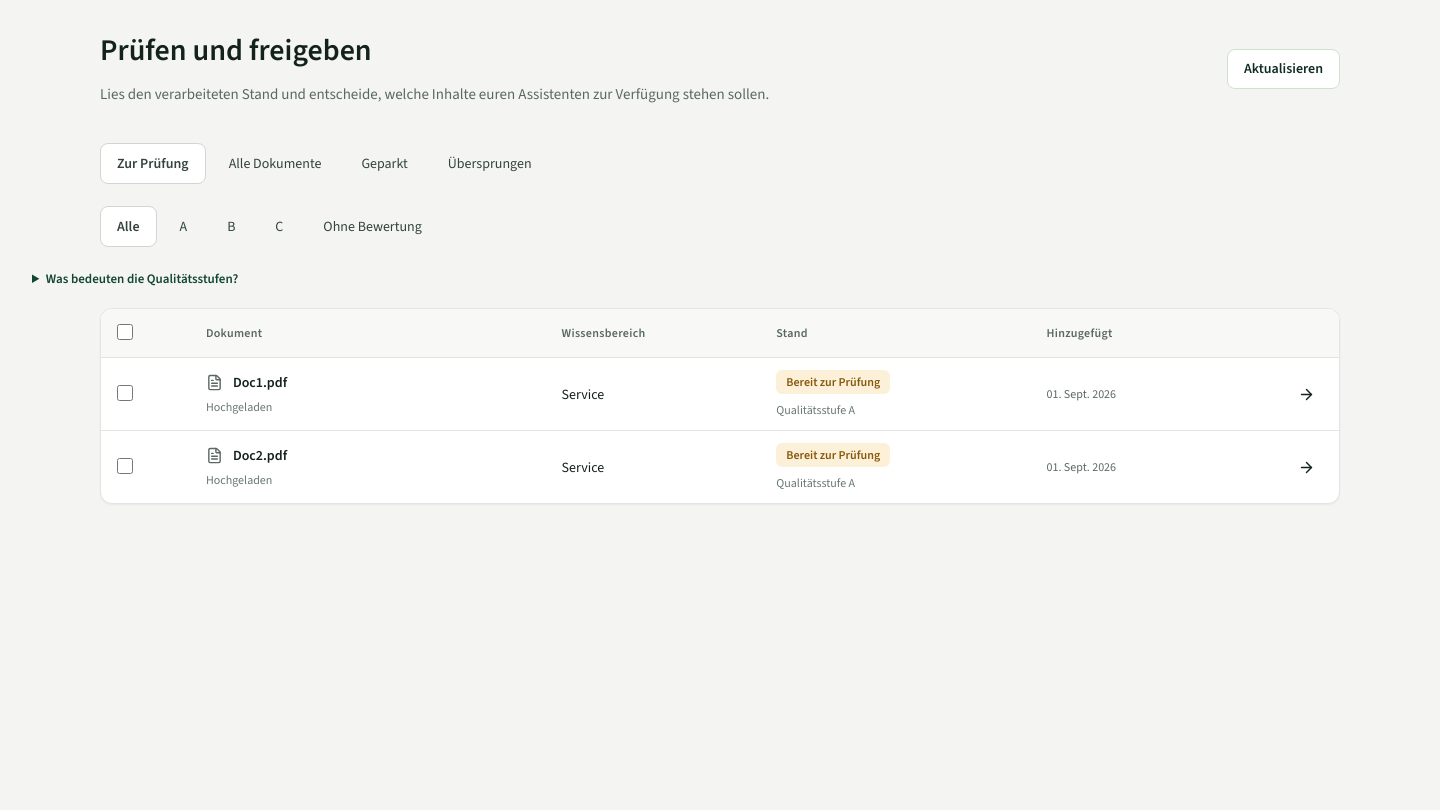
Test: resets the bulk release confirmation after a batch so a new selection needs re-confirming
The image size is (1440, 810).
Expected: the text "Doc1.pdf" is shown, x1=233 y1=372 x2=287 y2=393
What coordinates should you click on to do the following:
click the checkbox named "Doc1.pdf auswählen"
I would click on:
 (125, 393)
Its box is x1=117 y1=385 x2=133 y2=401.
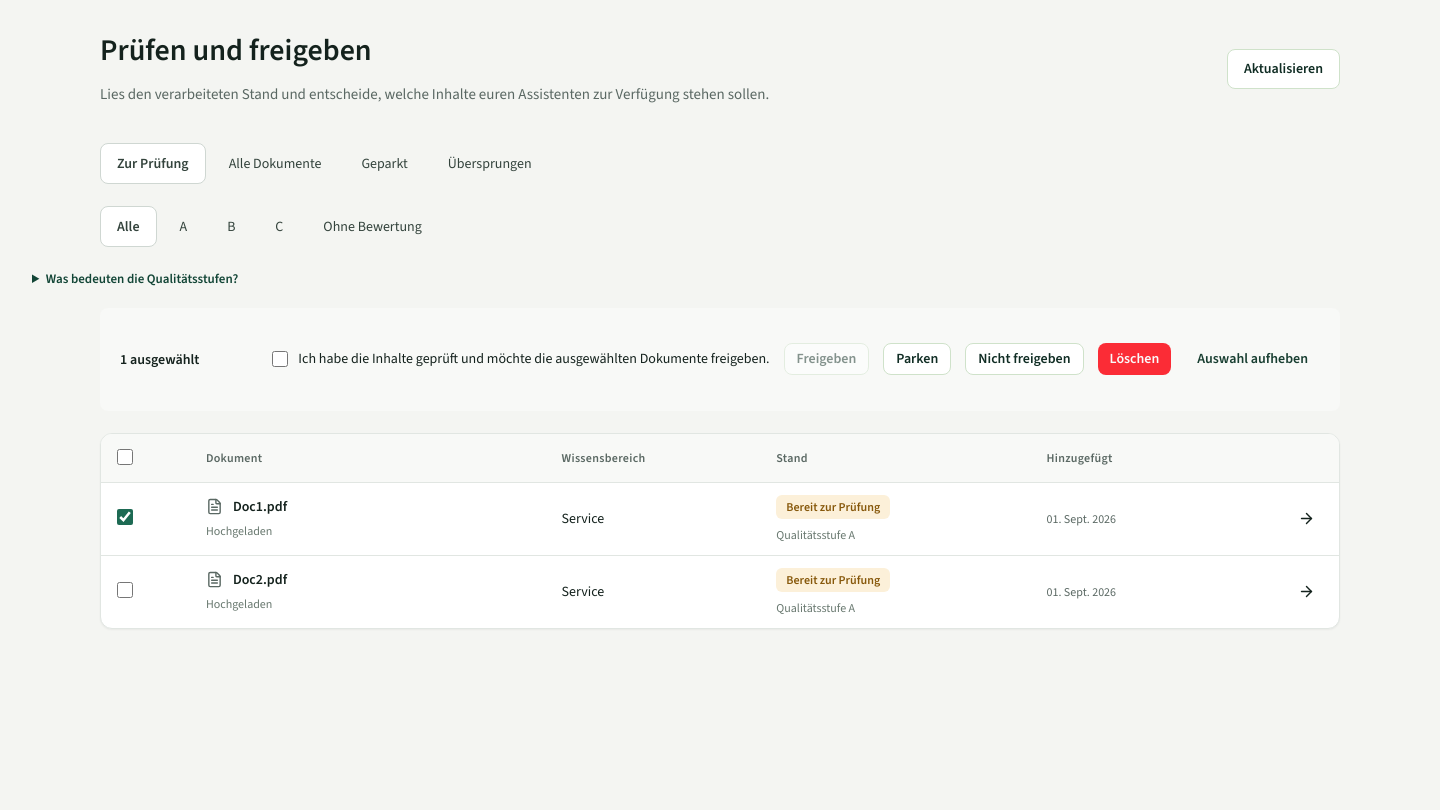
What coordinates should you click on to do the following:
click the checkbox labelled "Ich habe die Inhalte geprüft"
I would click on:
 (280, 359)
Its box is x1=272 y1=351 x2=288 y2=367.
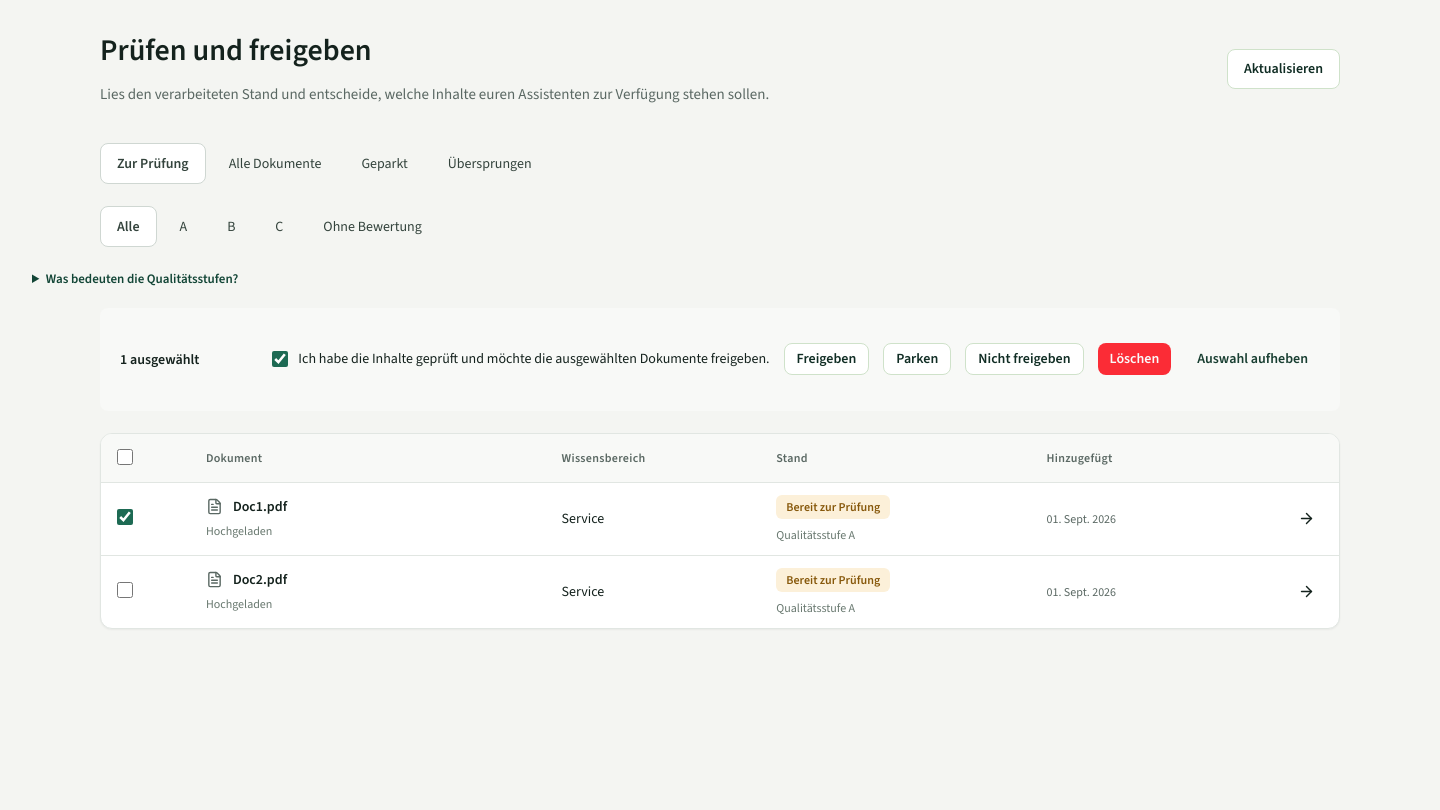
What coordinates should you click on to do the following:
click the button "Freigeben"
I would click on:
 (826, 359)
Its box is x1=784 y1=343 x2=869 y2=375.
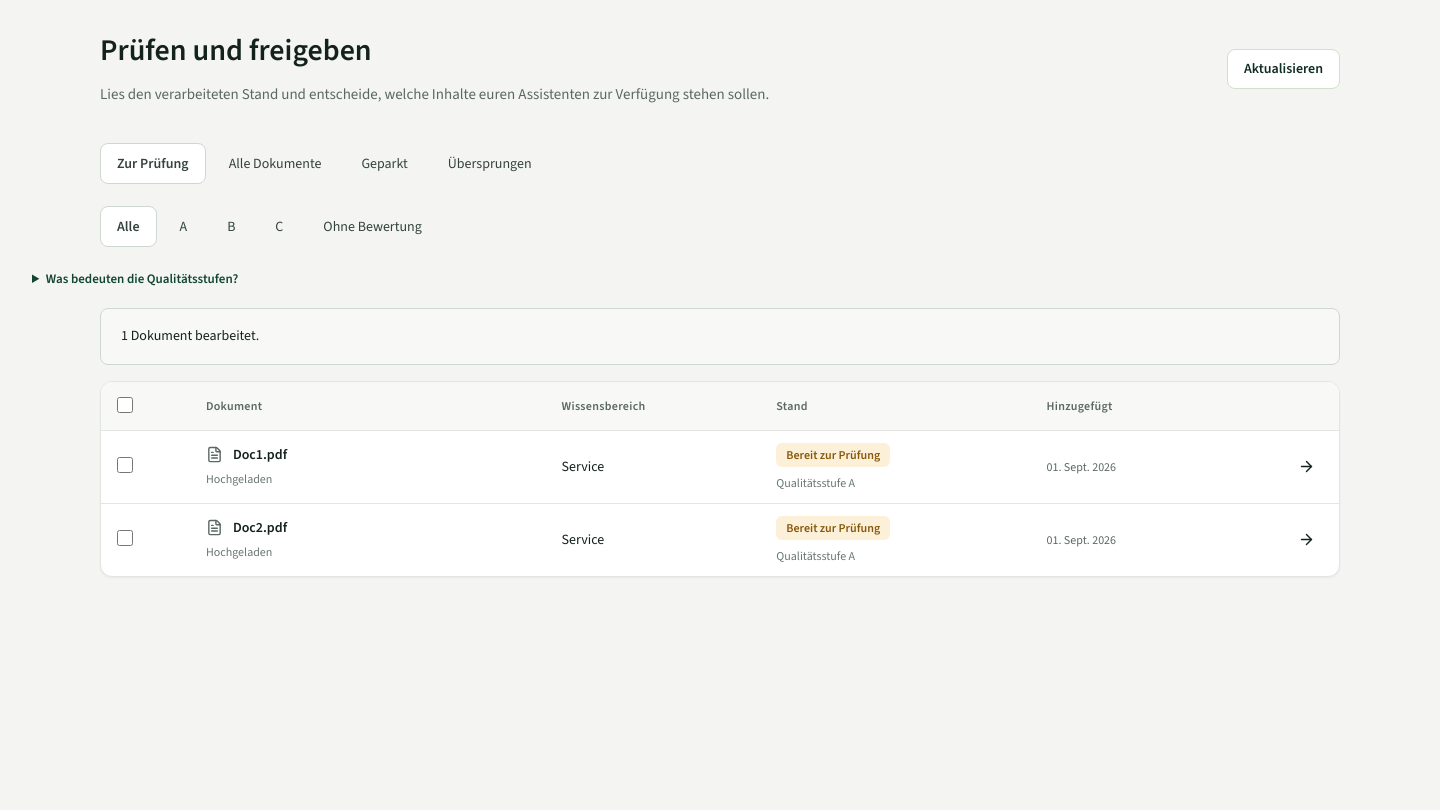
Now the text "1 ausgewählt" is gone
What coordinates should you click on to do the following:
click the checkbox named "Doc2.pdf auswählen"
I would click on:
 (125, 538)
Its box is x1=117 y1=530 x2=133 y2=546.
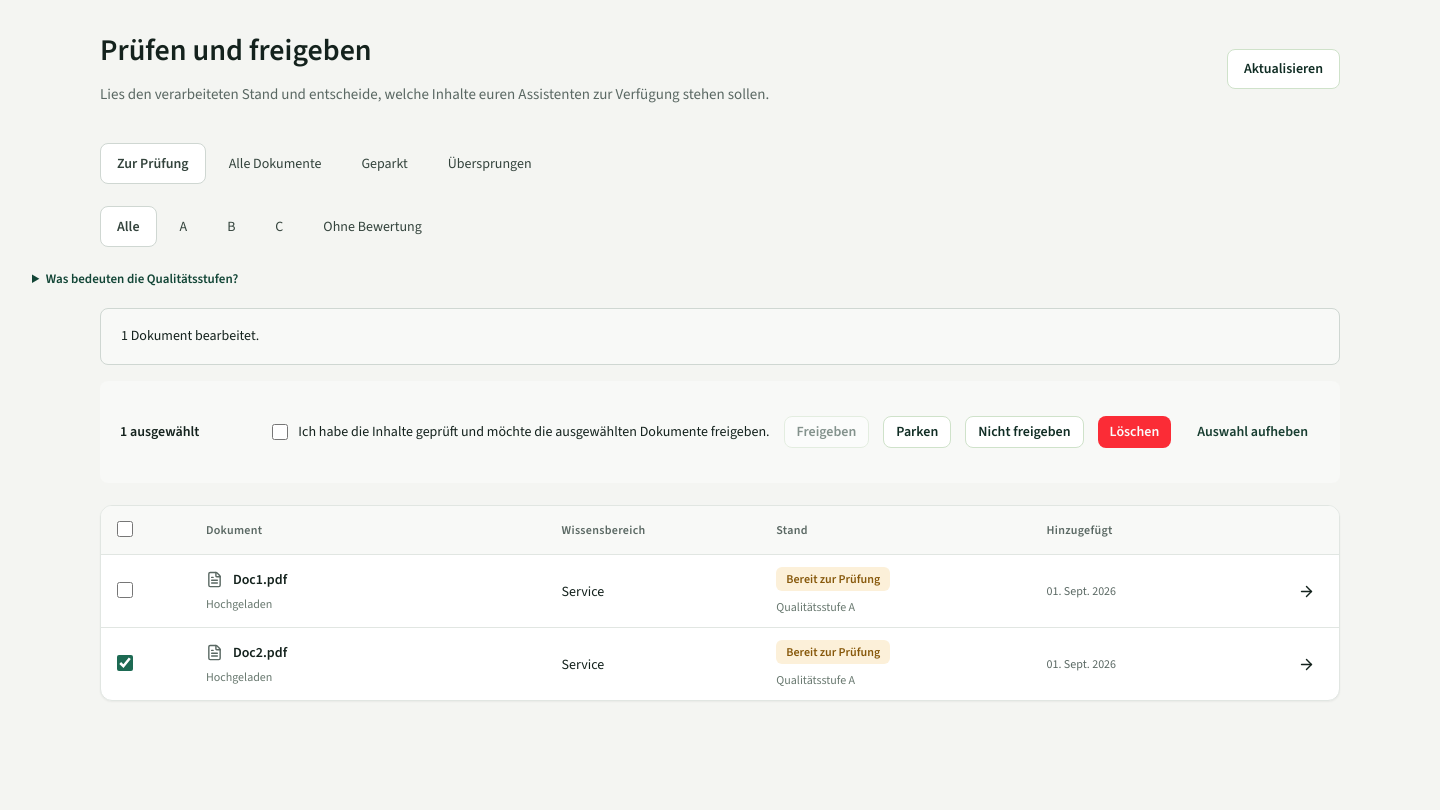
Now the text "1 ausgewählt" is shown, box x1=120 y1=421 x2=199 y2=442
Now the checkbox labelled "Ich habe die Inhalte geprüft" is not checked, box x1=272 y1=424 x2=288 y2=440
Now the button "Freigeben" is disabled, box x1=784 y1=416 x2=869 y2=448
